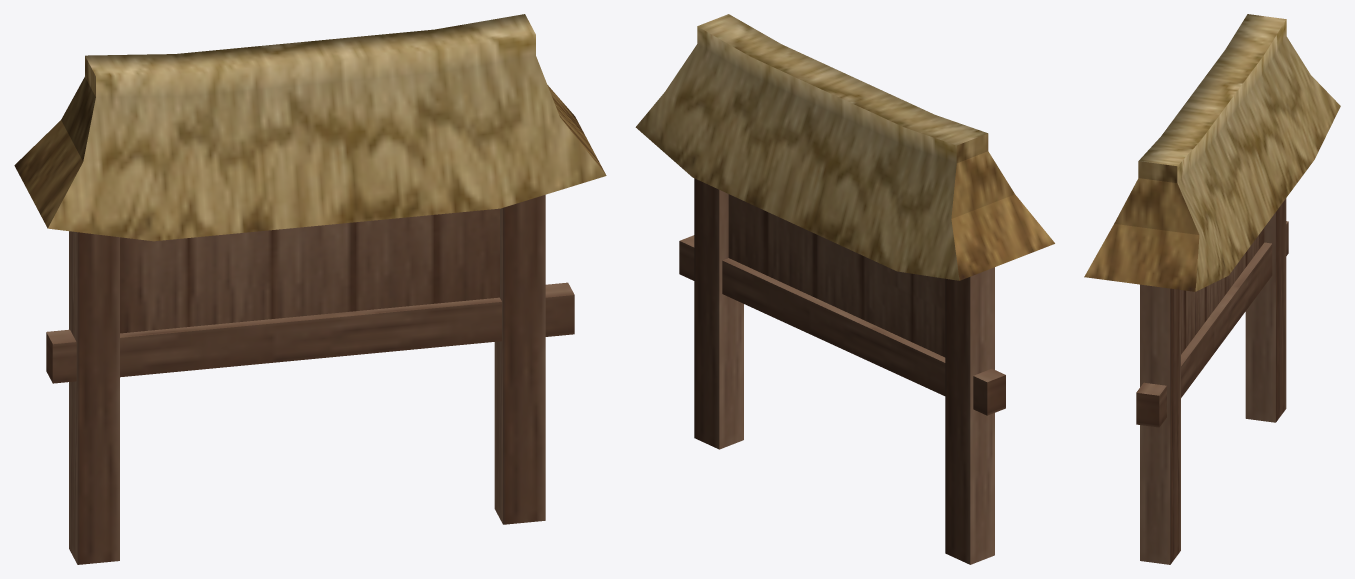
File: Area_12_24.fbx
The picture shows the model from 3 angles, left to right: view 1: azimuth 30°, elevation 25°; view 2: azimuth 150°, elevation 25°; view 3: azimuth 270°, elevation 25°; orthographic projection. The views are drawn at different scales.
Parts seen in each view (by area): view 1: Area_12_24; view 2: Area_12_24; view 3: Area_12_24.
Part boxes in pixels (x1,y1,x2,y2): Area_12_24: (14,14,606,564); Area_12_24: (635,14,1054,564); Area_12_24: (1084,14,1340,564).
Bounding box in the file's own units: 313 × 287 × 169.
